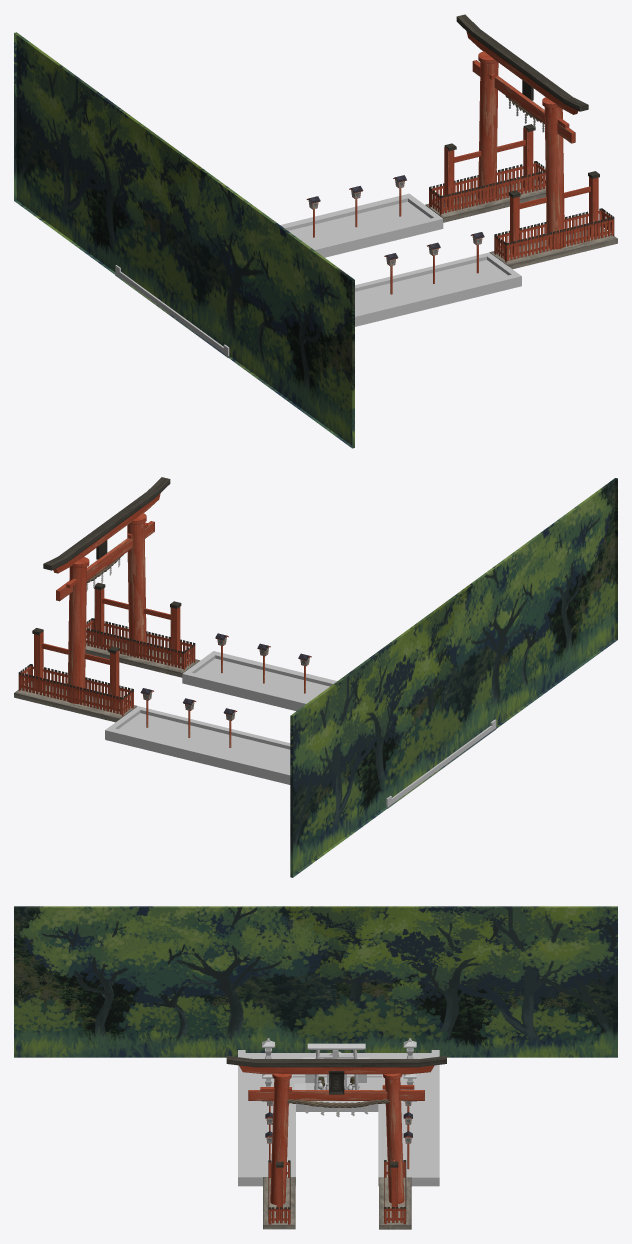
Rendered from shrine03.fbx.
The picture shows the model from 3 angles, top to bottom: view 1: azimuth 30°, elevation 25°; view 2: azimuth 150°, elevation 25°; view 3: azimuth 270°, elevation 25°; orthographic projection. The views are drawn at different scales.
Visible parts, largest first — view 1: Cube.192, Cube, Cube.007; view 2: Cube.192, Cube, Cube.007; view 3: Cube.192, Cube, Cube.007, Cube.094, Cube.098, Circle.053.
Boxes of the visible parts, box(x1,y1,x2,y2) form: Cube.192: box(14, 32, 354, 448); Cube: box(425, 14, 617, 269); Cube.007: box(115, 193, 521, 357); Cube.192: box(290, 478, 617, 877); Cube: box(14, 477, 200, 722); Cube.007: box(105, 651, 496, 808); Cube.192: box(14, 906, 617, 1057); Cube: box(226, 1056, 446, 1229); Cube.007: box(238, 1050, 439, 1186); Cube.094: box(307, 1043, 365, 1089); Cube.098: box(289, 1075, 384, 1089); Circle.053: box(287, 1099, 390, 1107).
Bounding box in the file's own units: 227 × 91.89 × 329.
